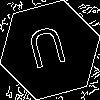U: (25, 25, 71, 78)
